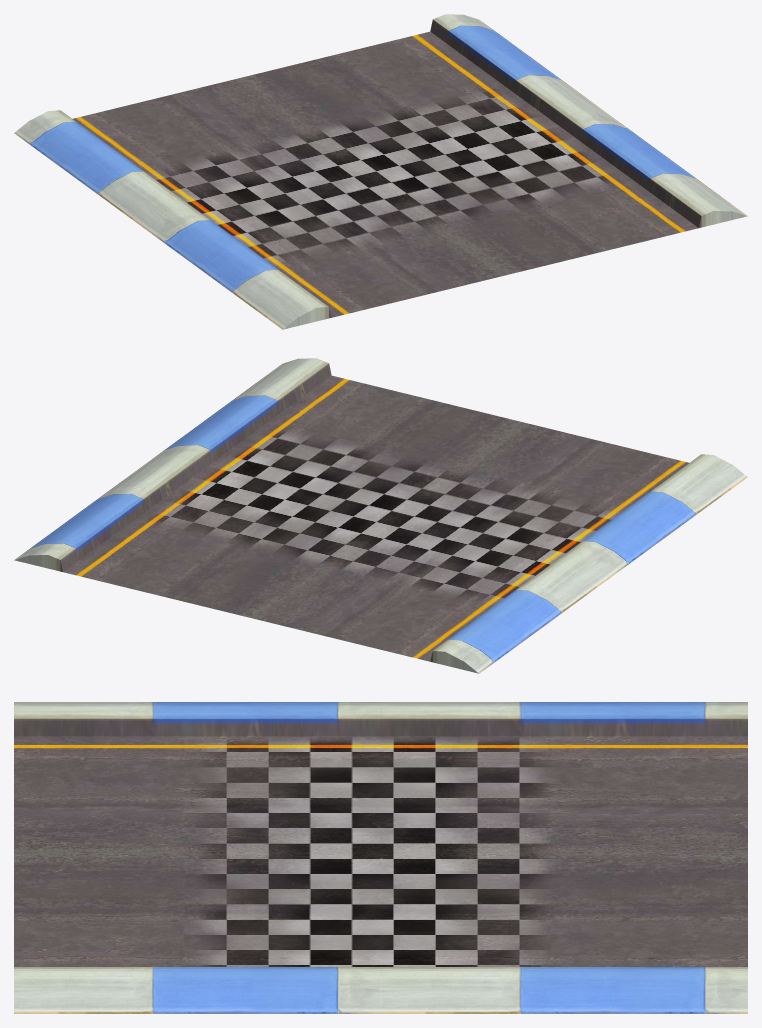
File: RoadFinishLine.FBX
3 renders of one model, top to bottom at view 1: azimuth 30°, elevation 25°; view 2: azimuth 150°, elevation 25°; view 3: azimuth 270°, elevation 25°, orthographic. The views are drawn at different scales.
Parts seen in each view (by area): view 1: RoadStraight; view 2: RoadStraight; view 3: RoadStraight.
Boxes of the visible parts, x1,y1,x2,y2 form: RoadStraight: (14, 14, 747, 329); RoadStraight: (14, 358, 747, 673); RoadStraight: (14, 702, 747, 1013).
Size of the model in its own units: 1000 by 28.17 by 1000.
Materials: 1 (1 with a texture image).
